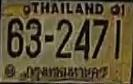1: (114, 19, 120, 59)
2: (56, 18, 72, 58)
3: (25, 18, 41, 57)
4: (74, 18, 89, 58)
6: (6, 17, 22, 57)
7: (92, 19, 108, 58)
BKK: (25, 64, 106, 79)
